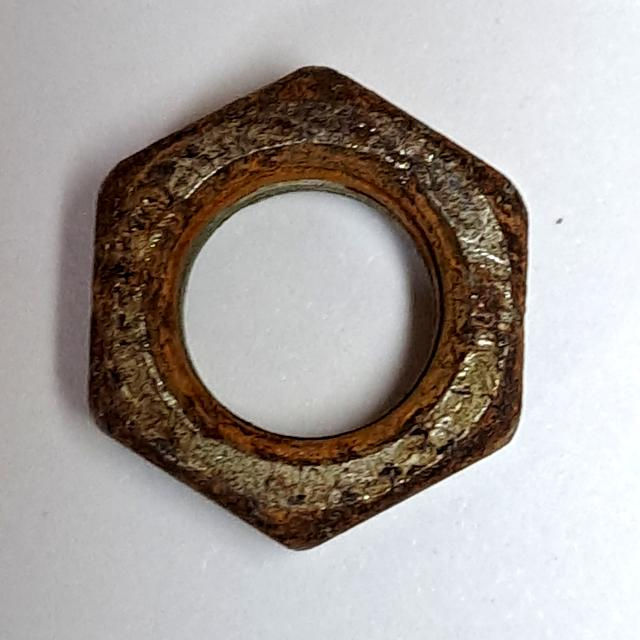Rust: (70, 49, 541, 562)
